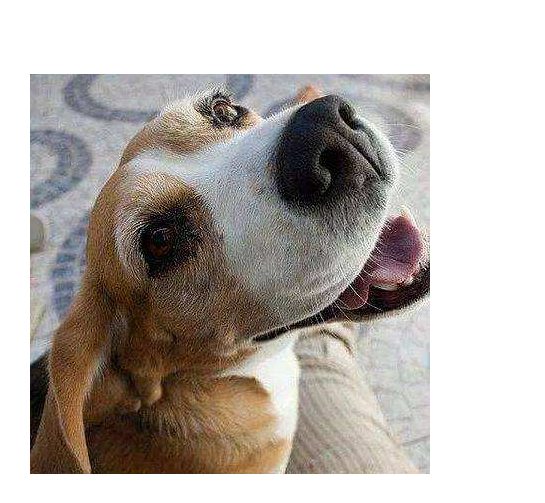nose: (272, 93, 391, 201)
